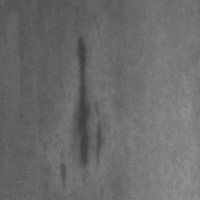inclusion: (70, 32, 110, 172)
